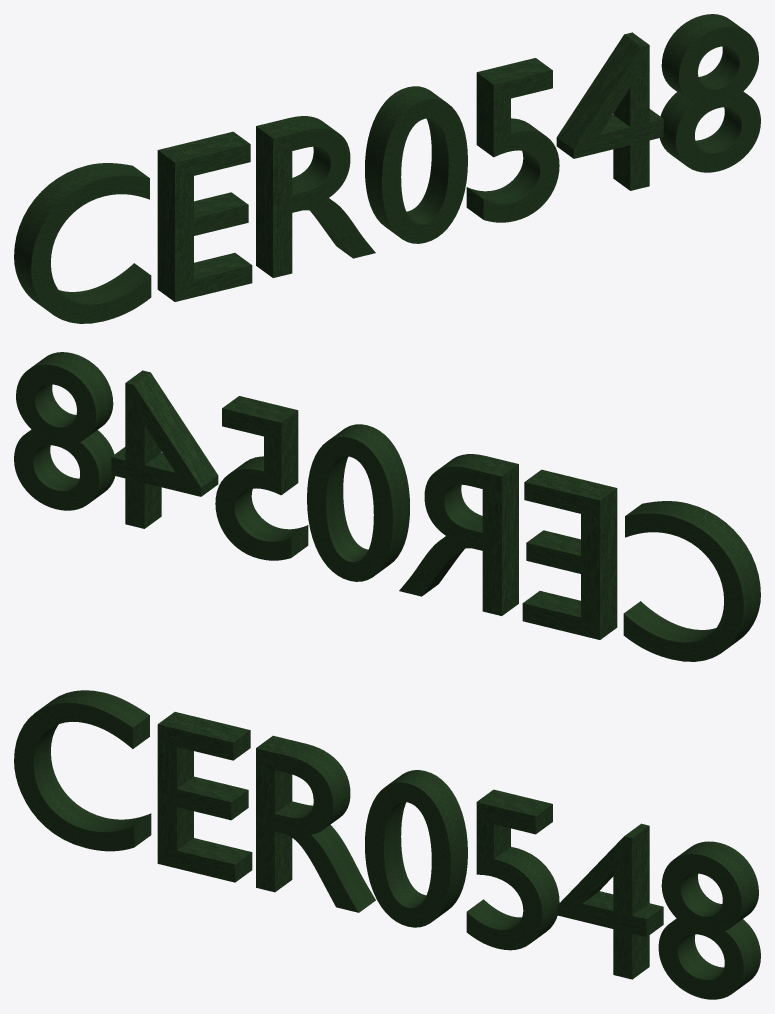
Rendered from login1.obj.
3 views of the same model, one above another, from view 1: azimuth 30°, elevation 25°; view 2: azimuth 150°, elevation 25°; view 3: azimuth 330°, elevation 25° (orthographic).
Visible parts, largest first — view 1: Text; view 2: Text; view 3: Text.
Part boxes in pixels (left/top/right/bottom): Text: left=14, top=14, right=760, bottom=323; Text: left=14, top=352, right=760, bottom=661; Text: left=14, top=690, right=760, bottom=999.
Size of the model in its own units: 3.73 by 0.7 by 0.1516.
